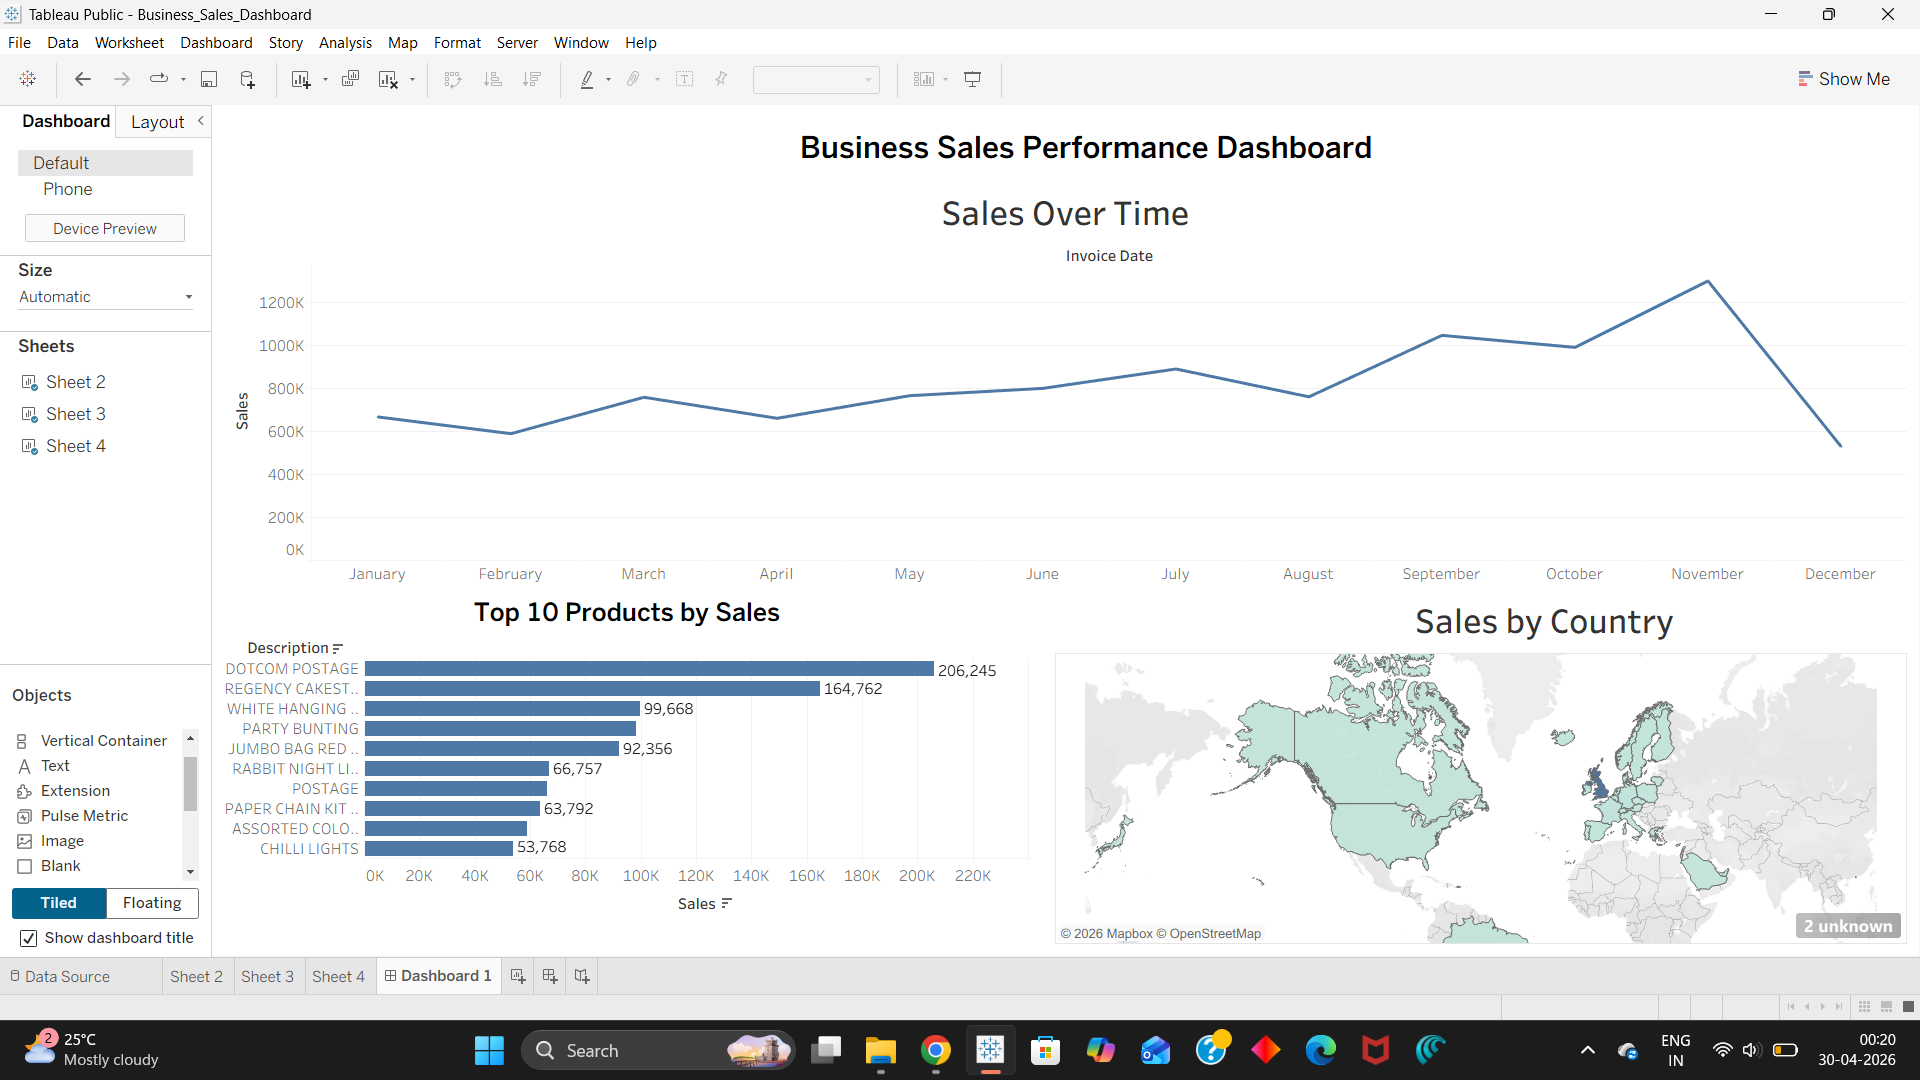

Layout of this report page (visuals, bound fields, positions):
{"tool":"tableau","page":{"name":"Dashboard 1","canvas":[1000,1000],"units":"permille","ordinal":0},"visuals":[{"type":"title","box":[4.7,9.4,990.6,79.9]},{"type":"worksheet","title":"Sheet 3","mark":"Automatic","rows":["Calculation_1262848853901312"],"cols":["InvoiceDate"],"box":[4.7,89.3,990.6,479.8]},{"type":"worksheet","title":"Sheet 2","mark":"Automatic","rows":["Description"],"cols":["Calculation_1262848853901312"],"box":[4.7,569.1,486.8,421.5]},{"type":"worksheet","title":"Sheet 4","mark":"Automatic","box":[491.5,569.1,503.8,421.5]}]}

Visuals, with their boxes on the dashboard's canvas, which has no fixed pixel size, in thousandths of its width and height (x1, y1, x2, y2). These are canvas units, not pixel positions in the 1920x1080 screenshot, which may show the page scaled, cropped or inside an application window:
title: {"x1": 5, "y1": 9, "x2": 995, "y2": 89}
"Sheet 3" worksheet: {"x1": 5, "y1": 89, "x2": 995, "y2": 569}
"Sheet 2" worksheet: {"x1": 5, "y1": 569, "x2": 492, "y2": 991}
"Sheet 4" worksheet: {"x1": 492, "y1": 569, "x2": 995, "y2": 991}
